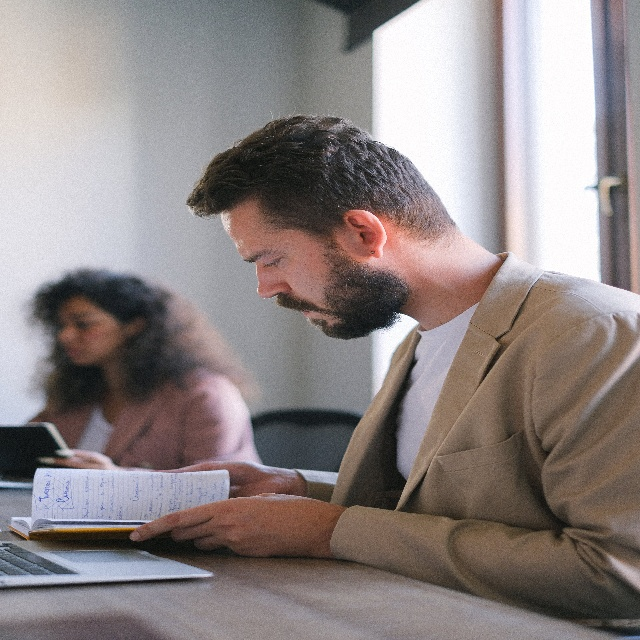Sin_guantes: (132, 498, 337, 567), (171, 456, 304, 504)
